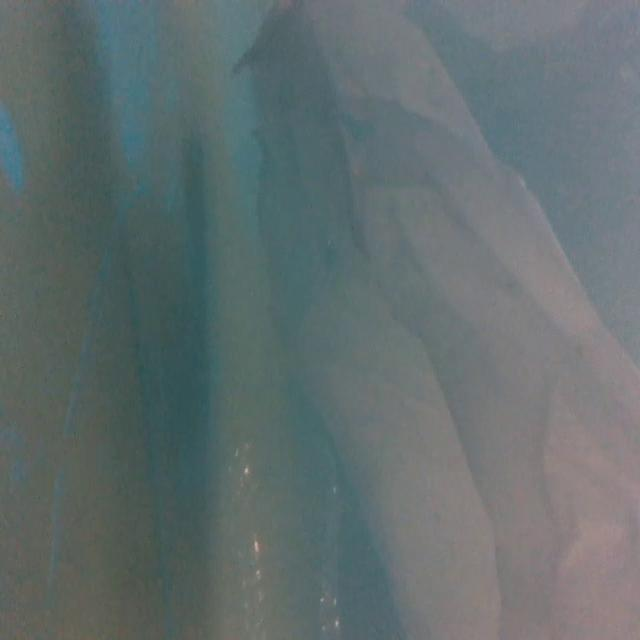plastic bags: (235, 6, 640, 640)
